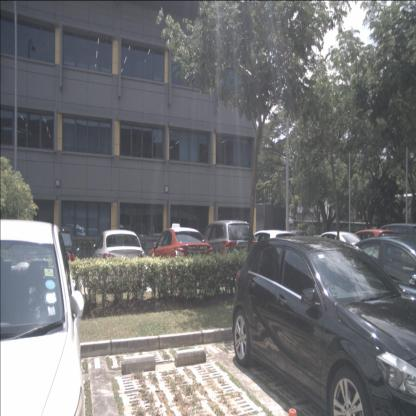vehicle-car: (231, 236, 416, 416), (0, 219, 87, 416), (332, 237, 416, 316), (22, 227, 80, 290), (147, 226, 214, 280), (94, 229, 146, 291), (197, 219, 256, 270), (248, 230, 296, 282), (311, 231, 371, 271), (346, 229, 403, 268), (374, 223, 416, 268)
